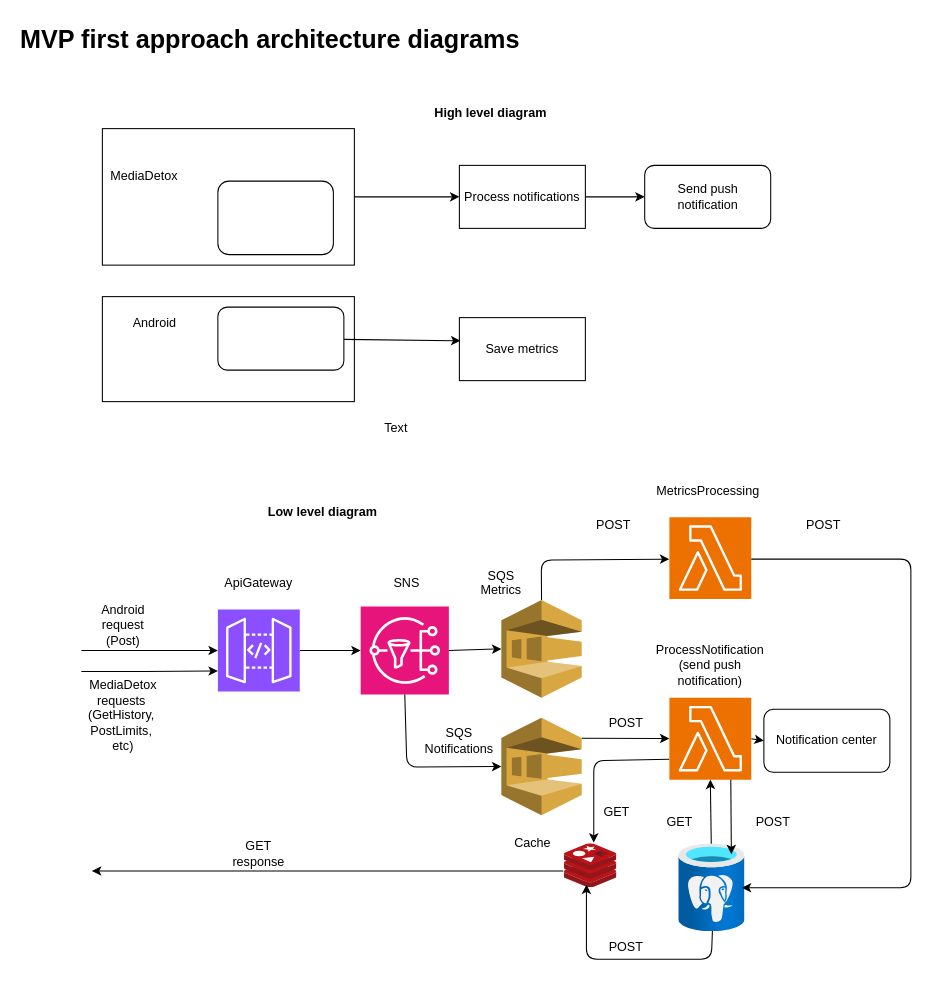
This 938x986 diagram has some shape labels left out. Here are the shapes that lost their labels. From the top down, the centre of each, then its label:
(x=275, y=217): Request App information, POST statuses
(x=280, y=338): App open/close notification
